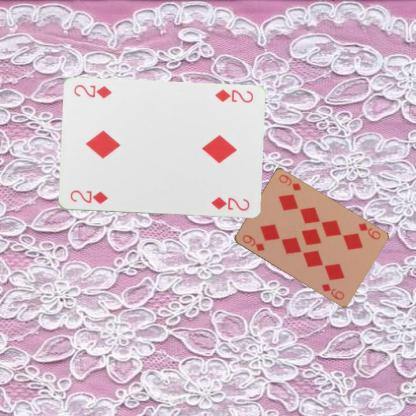2d: (67, 188, 109, 205), (212, 87, 254, 104)
9d: (239, 232, 266, 252), (355, 221, 382, 241)
